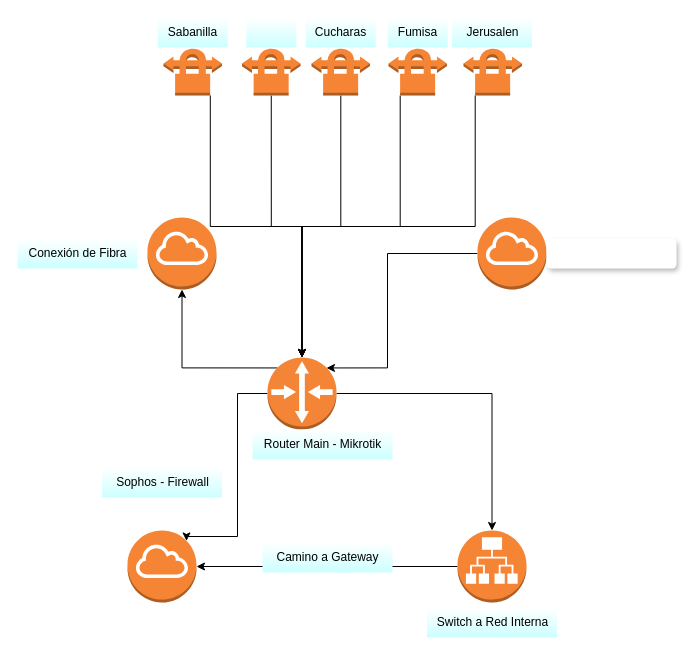
Some shapes in this 699 by 654 pixel diagram are drawn without their labels. Each missing label, with the centre of its shape:
"Conexión de Radio" belongs at point 612,254.
"Valle" belongs at point 271,32.
